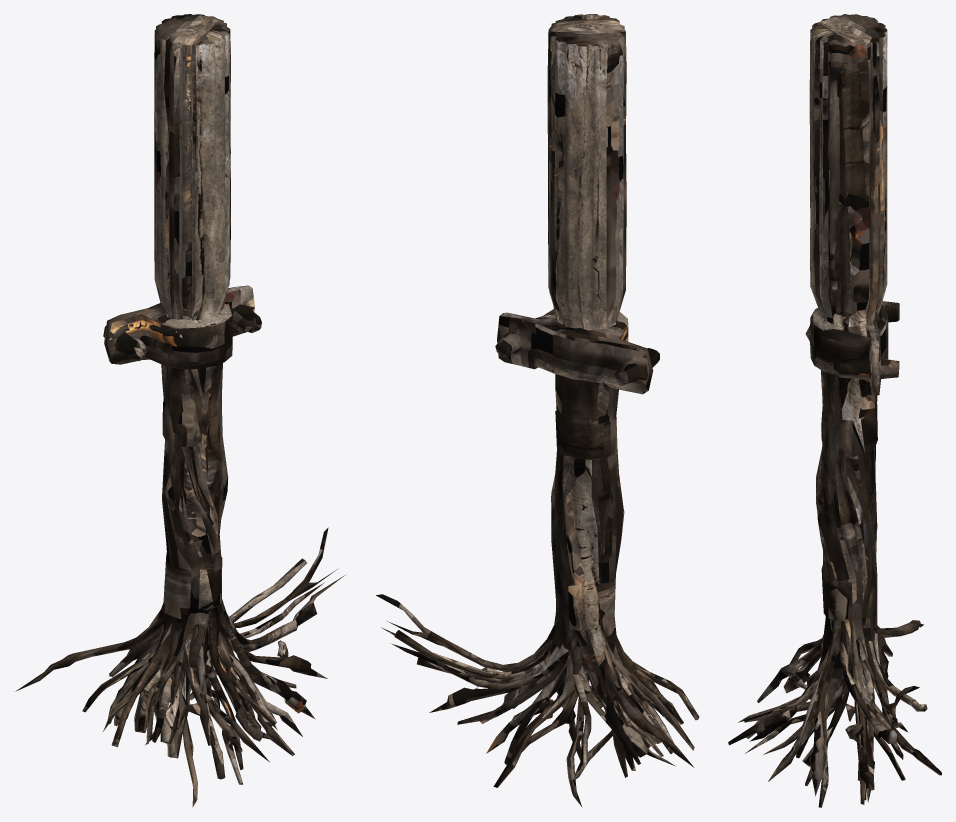
The model's file is TwistedWireBundle.fbx.
3 renders of one model, left to right at view 1: azimuth 30°, elevation 25°; view 2: azimuth 150°, elevation 25°; view 3: azimuth 270°, elevation 25°, orthographic. The views are drawn at different scales.
Parts seen in each view (by area): view 1: mesh_node; view 2: mesh_node; view 3: mesh_node.
Boxes of the visible parts, x1=… form: mesh_node: x1=15, y1=14, x2=344, y2=807; mesh_node: x1=376, y1=14, x2=699, y2=807; mesh_node: x1=728, y1=14, x2=941, y2=807.
Bounding box in the file's own units: 0.8955 × 1.98 × 0.5126.
